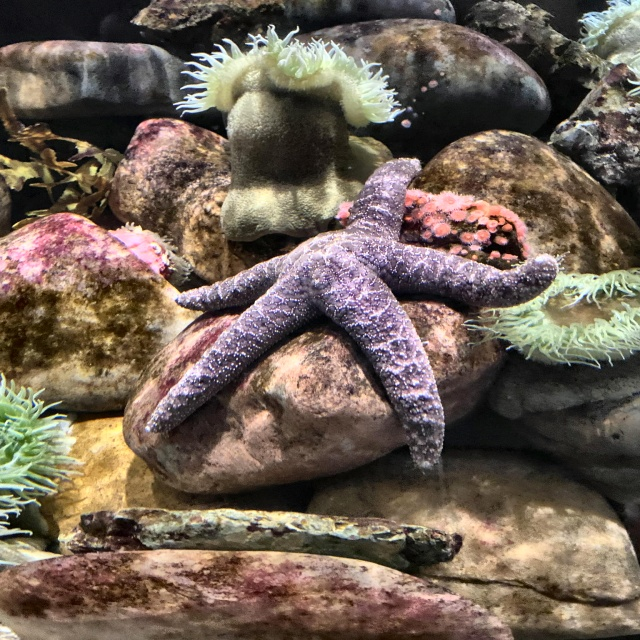starfish: (146, 157, 558, 476)
